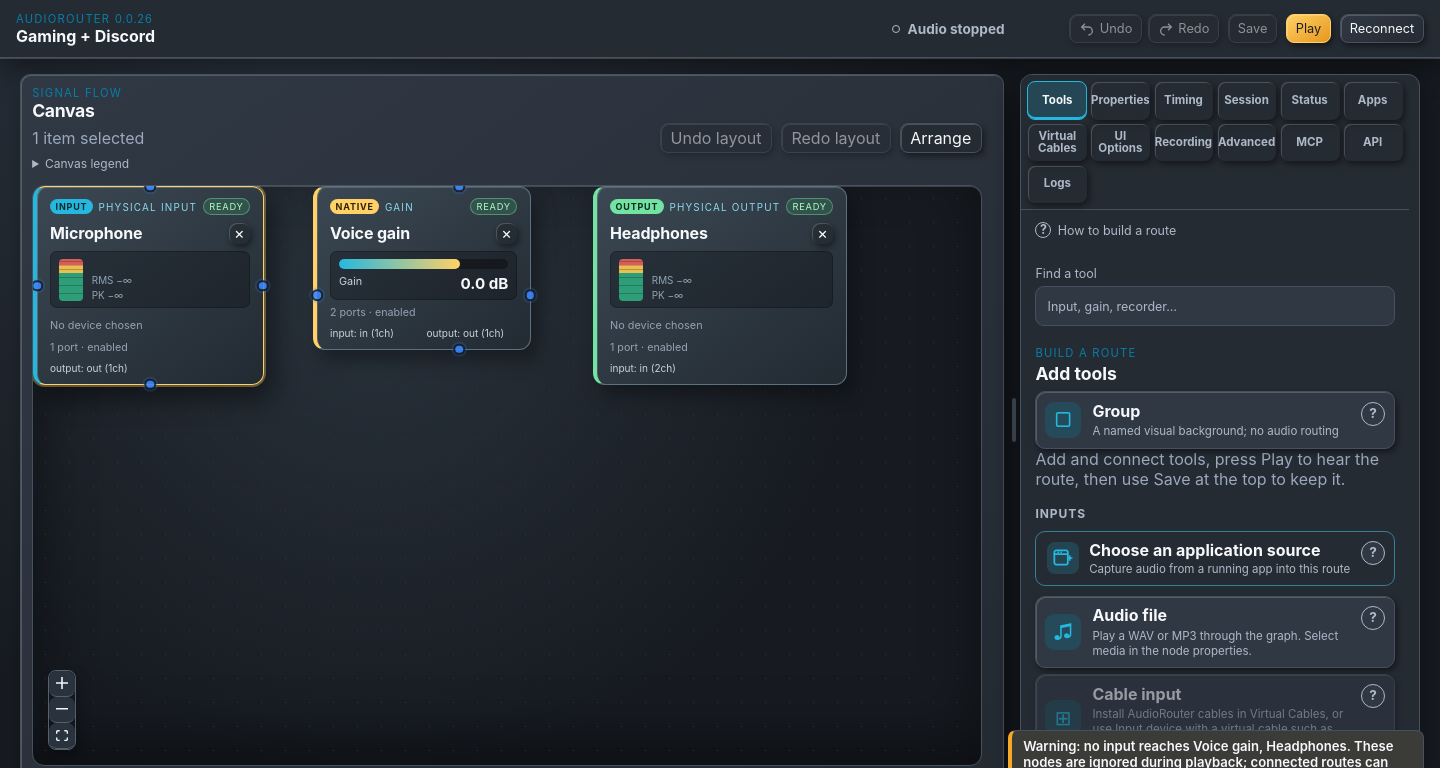
session refresh and playback regressions › opens Apps after a delayed initial snapshot without changing hook order
Click the tab "Apps" at (1373, 101), box [1343,81,1403,120]
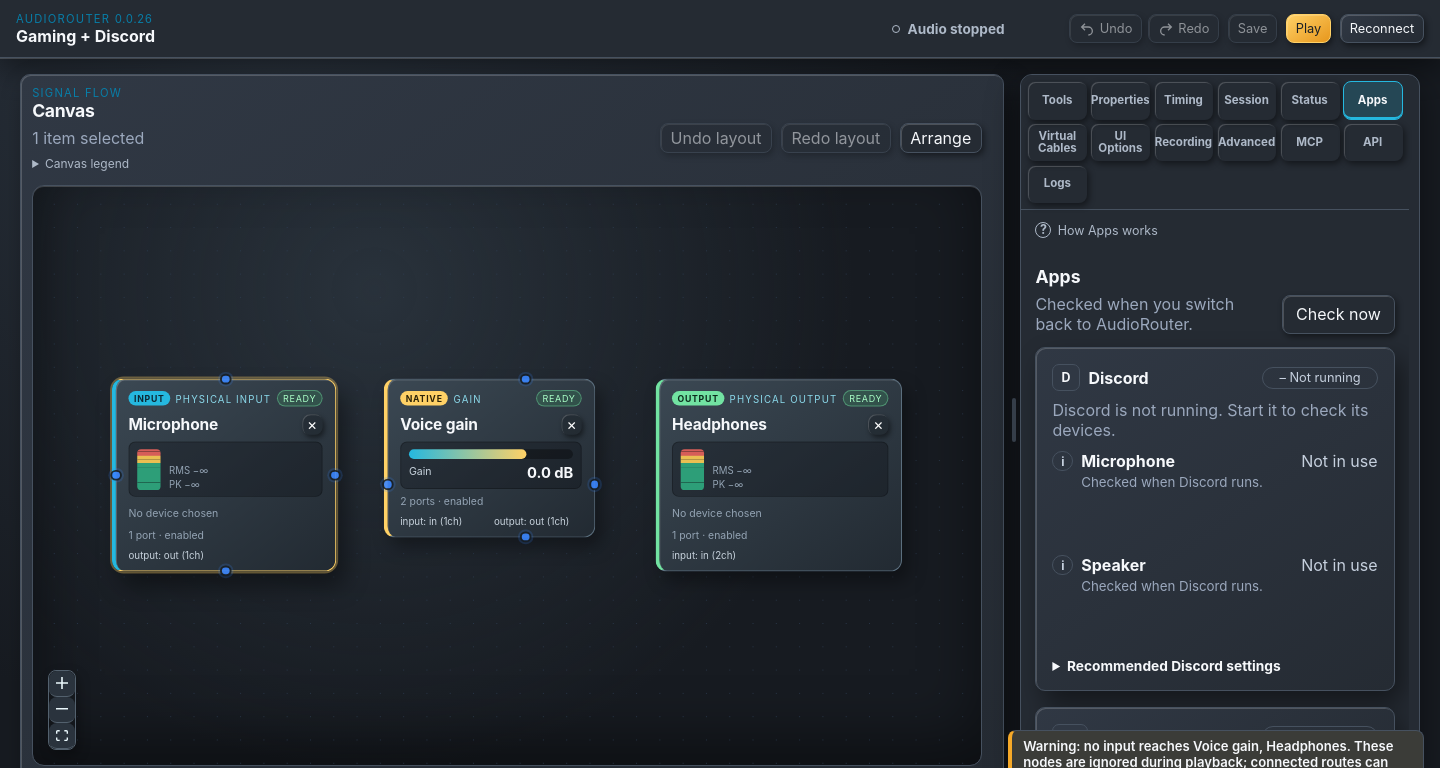
Expected: the heading "Discord" is shown, [1088,368,1149,388]
Expected: the heading "OBS Studio" is shown, [1097,727,1185,747]
